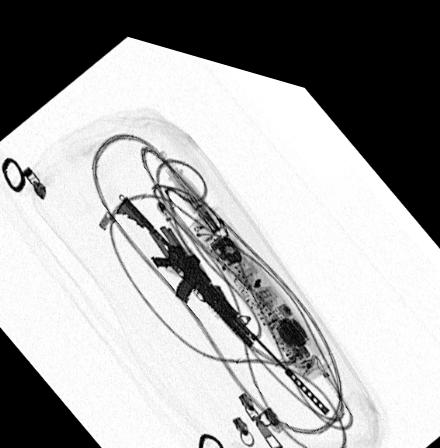Gun: (112, 186, 331, 398)
